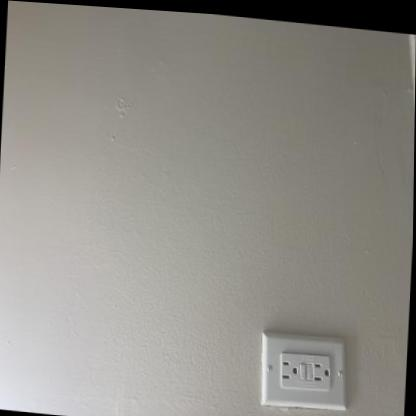OUTLET: (258, 330, 348, 414)
